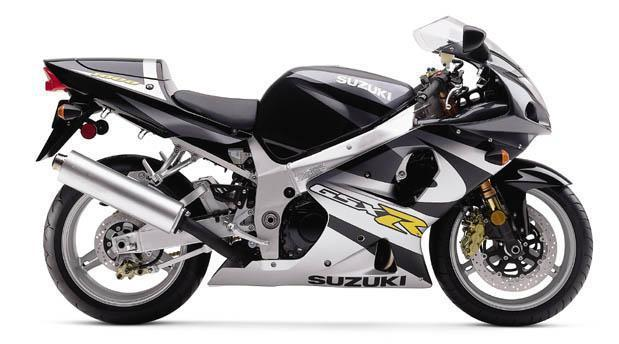motorcycle: (21, 8, 619, 339)
